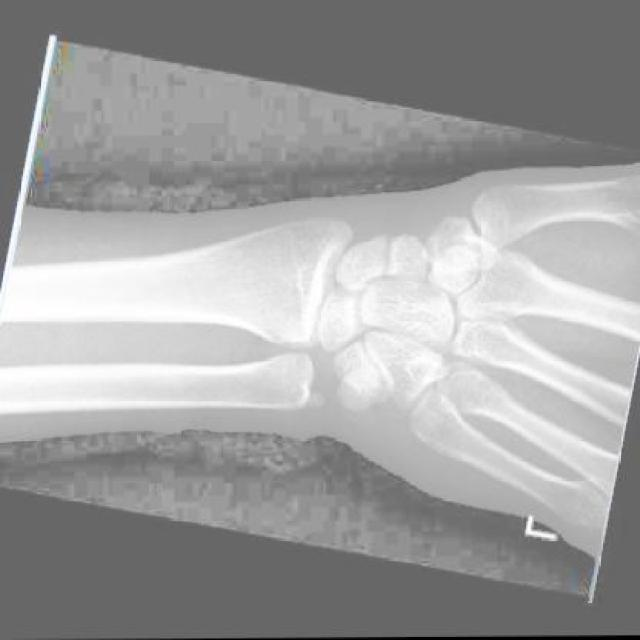Fracture: (369, 229, 406, 282)
